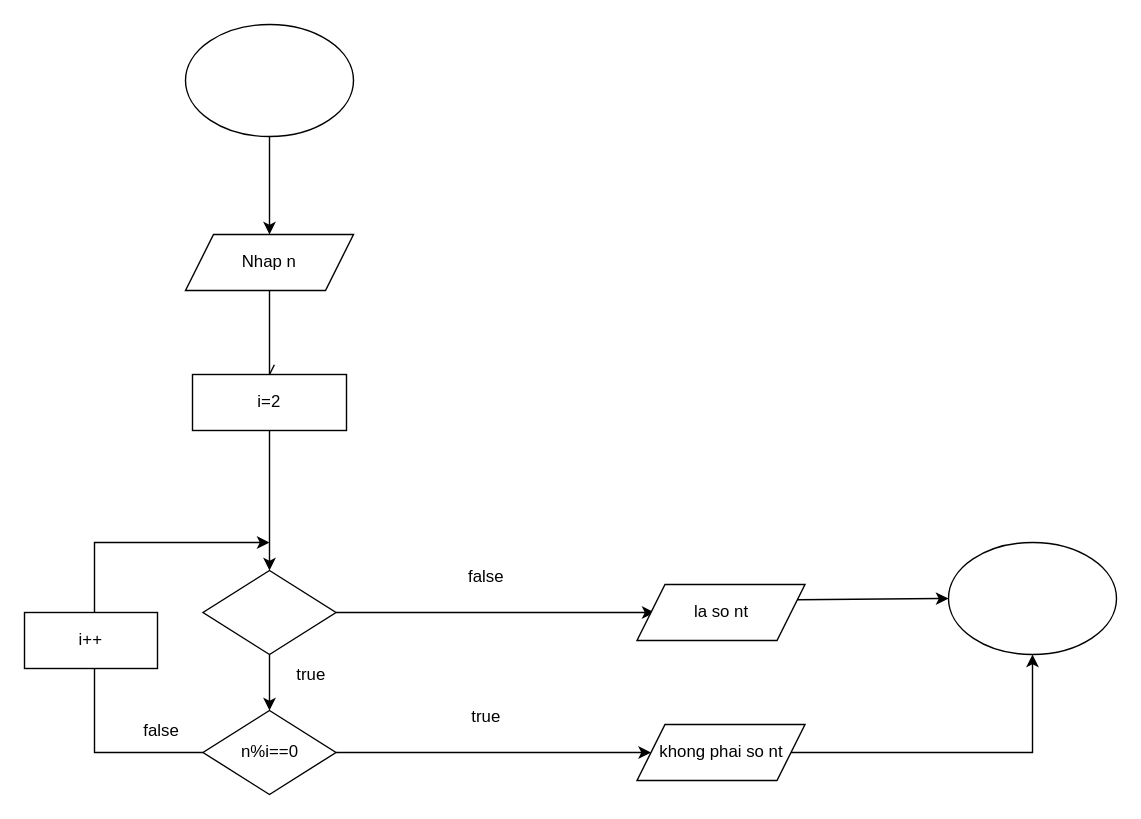
This 1141x819 diagram has some shape labels left out. Here are the shapes that lost their labels. From the top down, the box of each, then its label:
(184, 23, 354, 136): Begin
(202, 569, 336, 654): i<=sqrt(n)
(947, 541, 1116, 654): End
